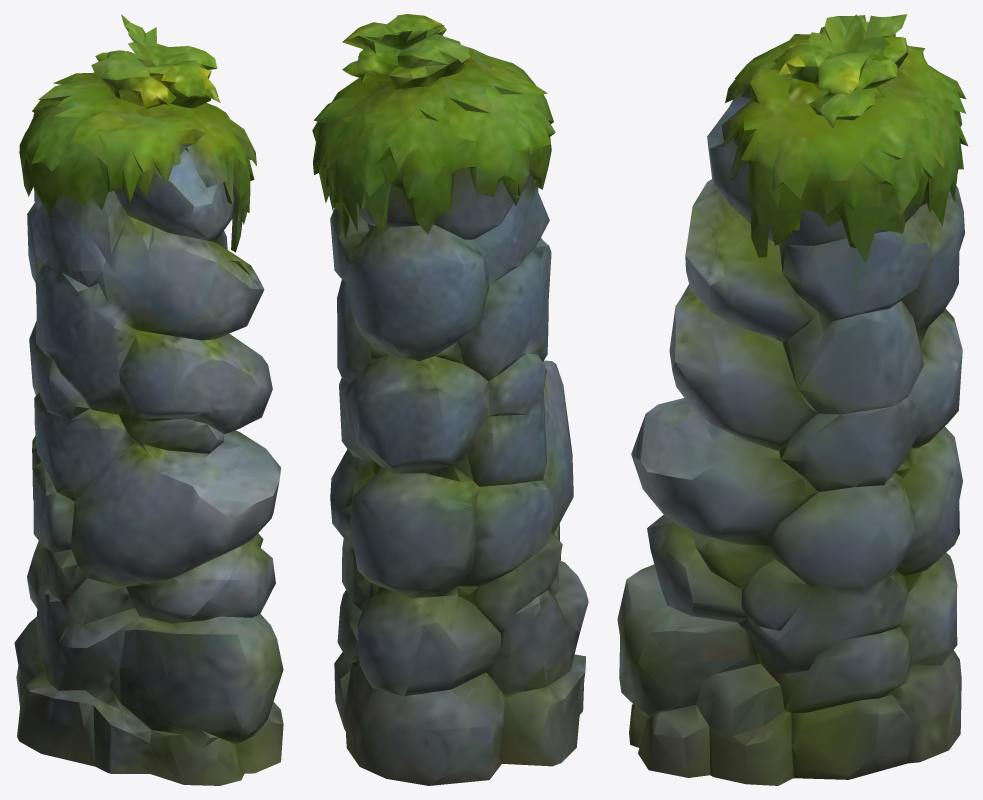
The model's file is pilar_cascada.glb.
3 views of the same model, side by side, from view 1: azimuth 30°, elevation 25°; view 2: azimuth 150°, elevation 25°; view 3: azimuth 270°, elevation 25° (orthographic). The views are drawn at different scales.
Parts seen in each view (by area): view 1: pilar_cascada_malla; view 2: pilar_cascada_malla; view 3: pilar_cascada_malla.
Boxes of the visible parts, bbox=[...] form: pilar_cascada_malla: bbox=[14, 14, 283, 785]; pilar_cascada_malla: bbox=[312, 14, 588, 785]; pilar_cascada_malla: bbox=[617, 14, 967, 785].
Size of the model in its own units: 0.1188 by 0.351 by 0.1521.
Materials: 1 (1 with a texture image).
